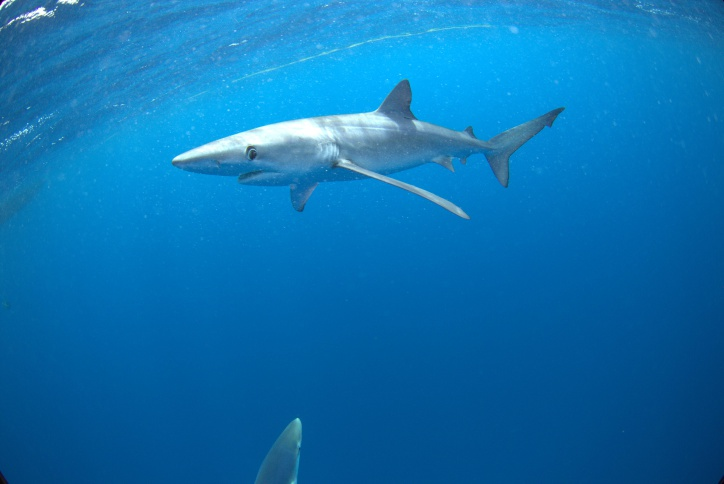Azul: (166, 69, 591, 231)
